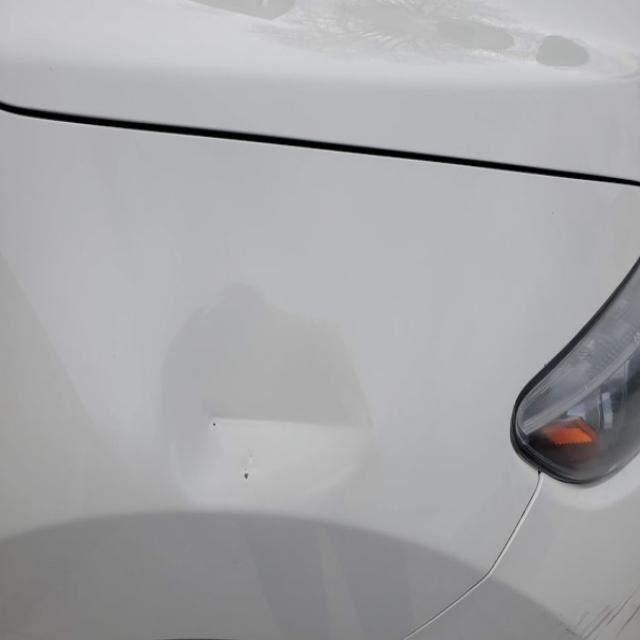dents: (180, 291, 381, 526)
